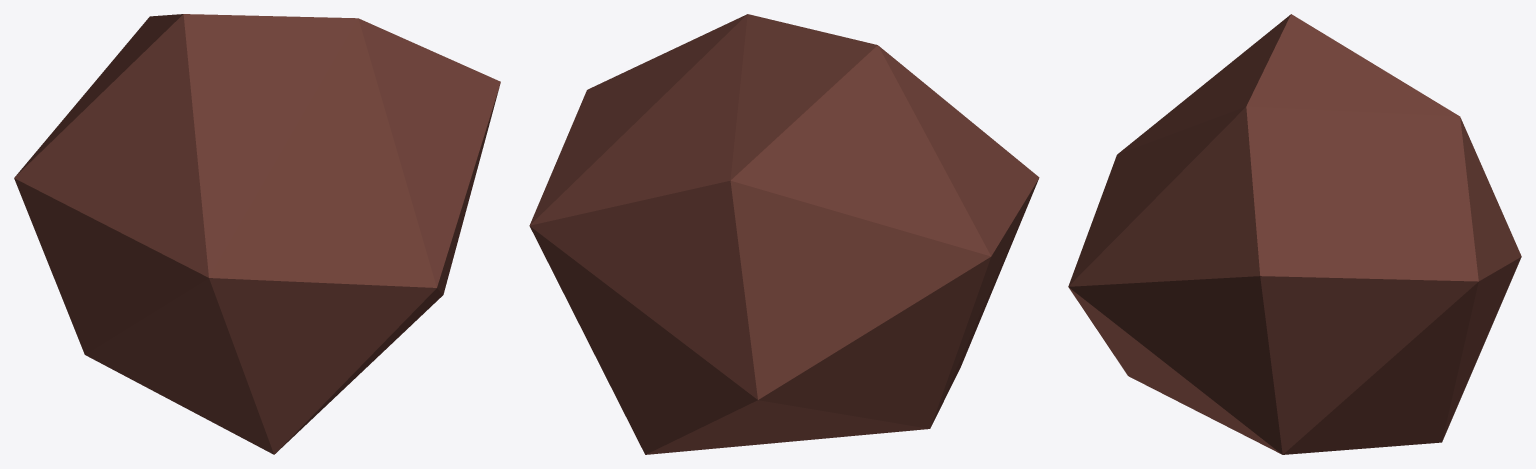
Rendered from dryBig_rockA.FBX.
The picture shows the model from 3 angles, left to right: view 1: azimuth 30°, elevation 25°; view 2: azimuth 150°, elevation 25°; view 3: azimuth 270°, elevation 25°; orthographic projection. The views are drawn at different scales.
Parts seen in each view (by area): view 1: dryBig_rockA; view 2: dryBig_rockA; view 3: dryBig_rockA.
Part boxes in pixels (box(x1,y1,x2,y2)): dryBig_rockA: box(14, 14, 500, 454); dryBig_rockA: box(529, 14, 1039, 454); dryBig_rockA: box(1068, 14, 1521, 454).
Size of the model in its own units: 232 by 191 by 218.
